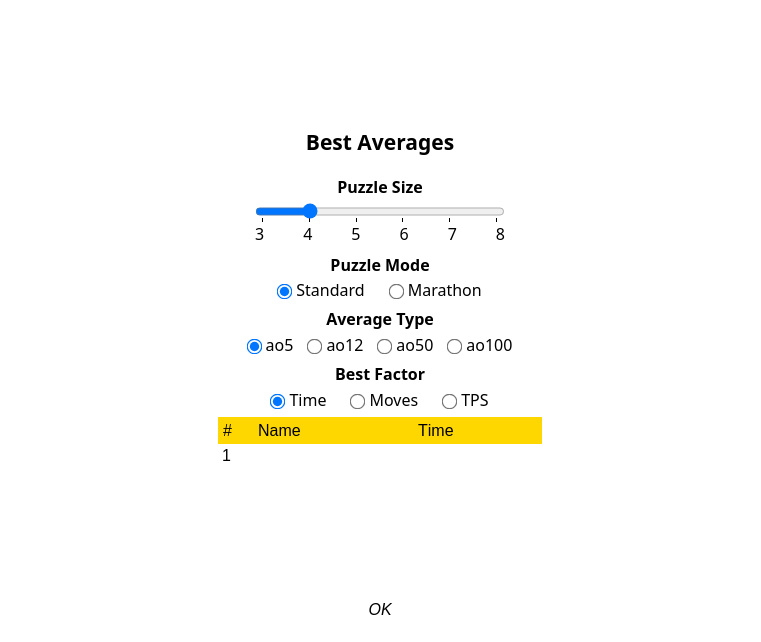
it: LeaderBoard › opening/closing the games table › opens the averages games table from the TPS column too
Expected: the element with class "leaderboard" is shown, [218,128,542,626]
Click the text "TPS": click(475, 400) [461,388,489,412]
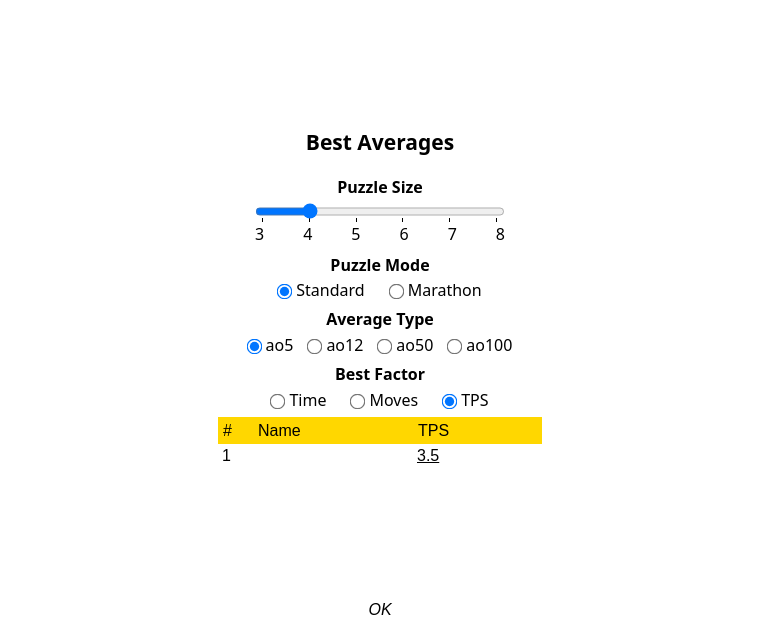
Expected: the element with class "leaderboard" is shown, [218,128,542,626]
Click the cell with class "link-item": click(428, 456) [413,444,542,468]
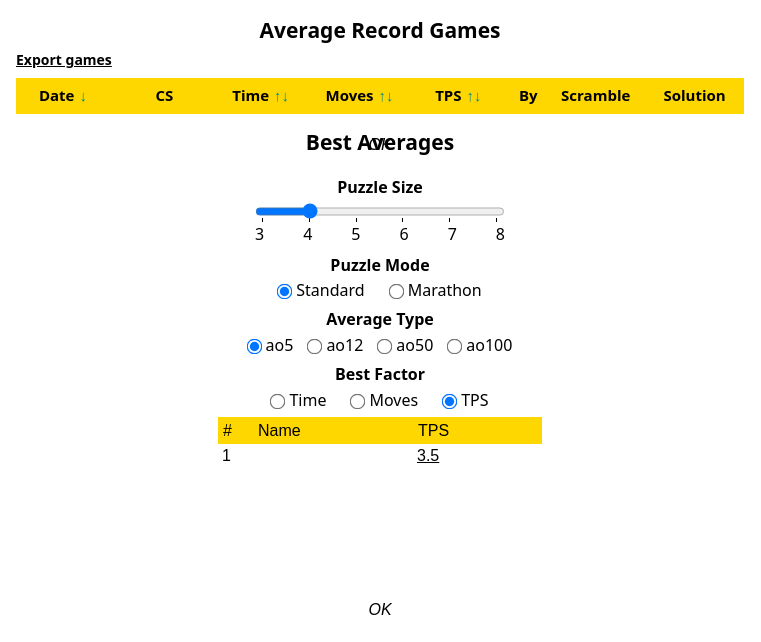
Expected: the element with class "games-table" is shown, [16,16,744,161]
